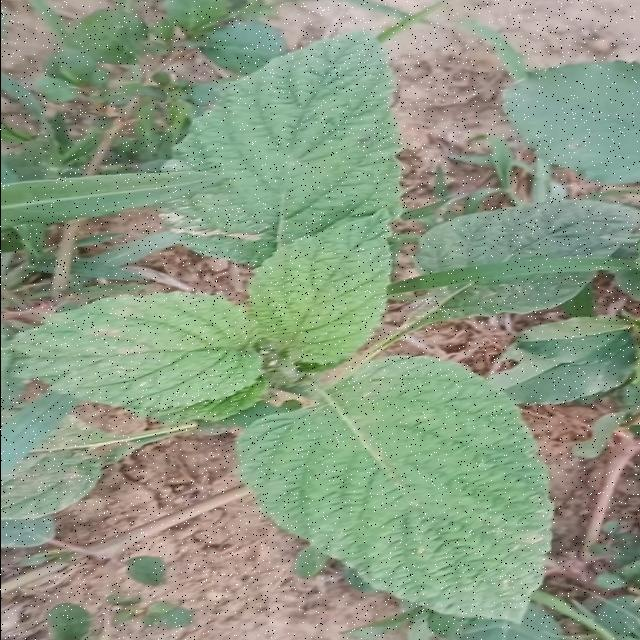weed: (8, 32, 399, 422), (237, 357, 551, 621), (416, 199, 639, 273), (507, 62, 638, 182), (408, 272, 594, 329), (511, 331, 634, 404)
